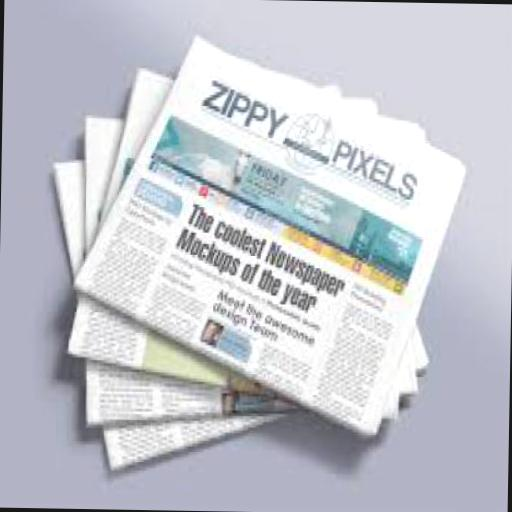paper: (67, 18, 464, 436), (64, 64, 422, 400), (76, 112, 422, 433), (44, 157, 306, 476)
